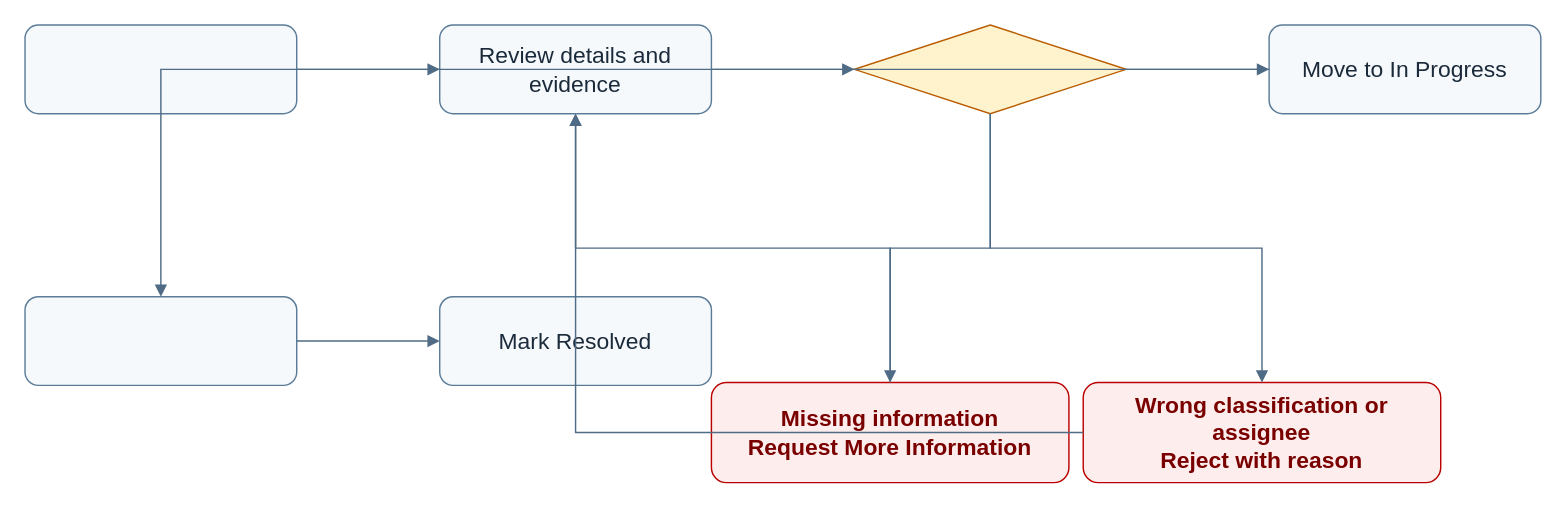
Image size: 1566x508. Some labels were removed from this diagram. Here are the shapes that lost their labels. From the top down, the centre of each, then its label:
At (x=160, y=69): "Open assigned bug".
At (x=989, y=69): "Can process?".
At (x=160, y=340): "Add developer note".
